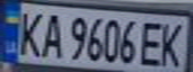0: (103, 16, 124, 64)
6: (118, 16, 142, 65), (84, 15, 106, 62)
9: (63, 12, 87, 61)
A: (36, 9, 66, 58)
E: (136, 18, 169, 66)
K: (12, 7, 48, 57), (157, 19, 190, 69)
